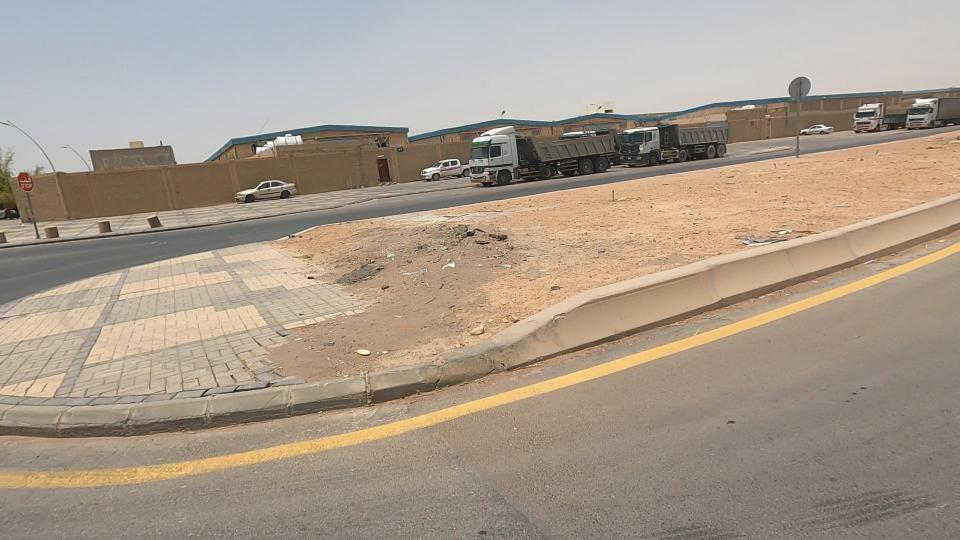CLUTTER_SIDEWALK: (248, 105, 805, 397), (596, 107, 960, 279)
GARBAGE: (668, 200, 845, 280), (302, 319, 420, 387), (387, 242, 498, 295)
